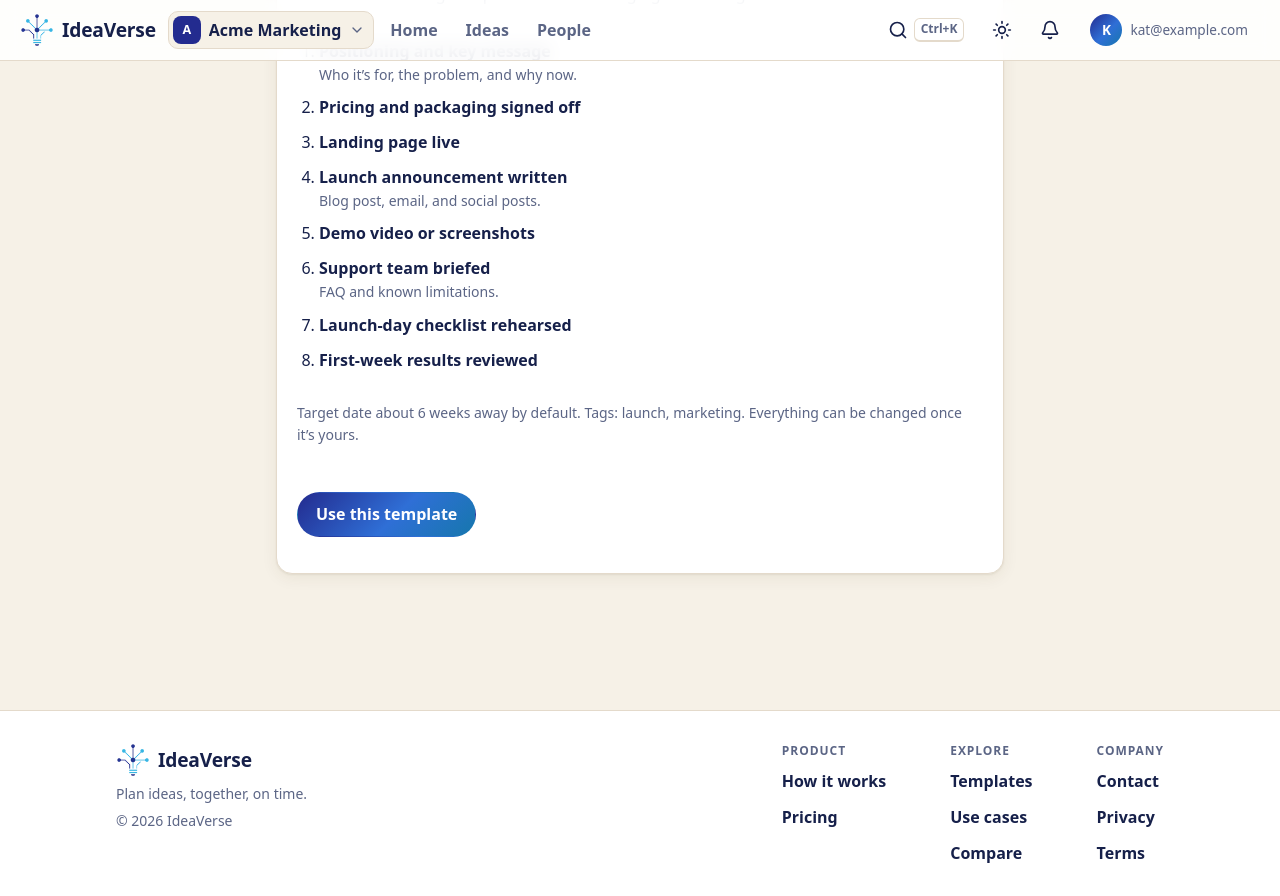
Test: Template gallery › opens the New idea form with the template from the button under the list when signed in
This screenshot has width=1280, height=896.
(page scrolled)
Click the button "Use this template".
click(387, 514)  # box [297,492,476,536]
(page scrolled)
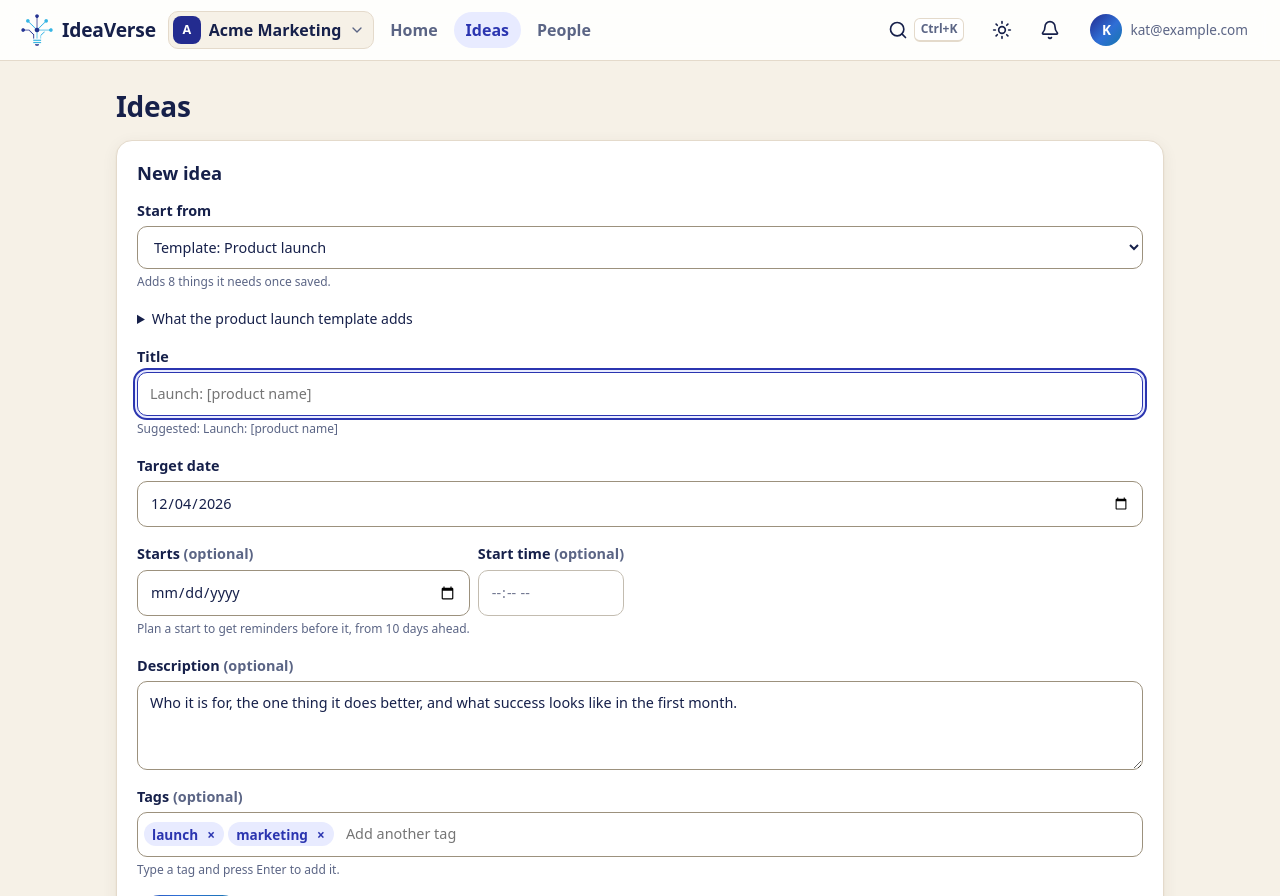
Expected: the dropdown labelled "Start from" shows "Template: Product launch", [137,226,1143,269]
